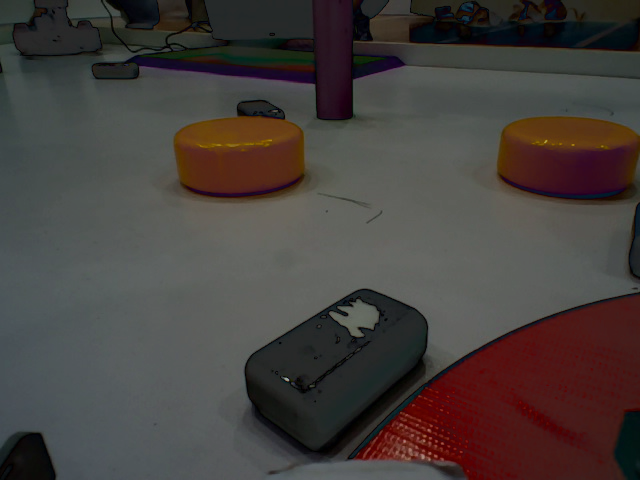black: (227, 285, 465, 458), (228, 89, 300, 124), (79, 56, 151, 84)
kuang: (124, 43, 448, 84)
yellow: (484, 94, 640, 221), (136, 117, 322, 200)
zhuzi: (300, 1, 364, 121)
